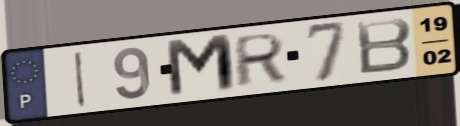7: (304, 20, 349, 85)
9: (110, 45, 153, 101)
B: (353, 16, 414, 77)
I: (72, 49, 89, 110)
M: (162, 31, 240, 101)
R: (232, 30, 289, 90)
